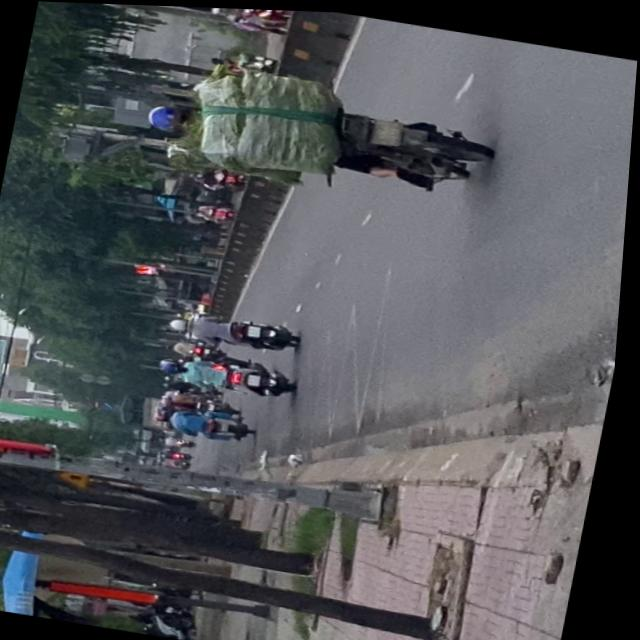helmet: (144, 98, 196, 134)
licenseplate: (132, 56, 506, 210)
nohelmet: (370, 115, 402, 143)
